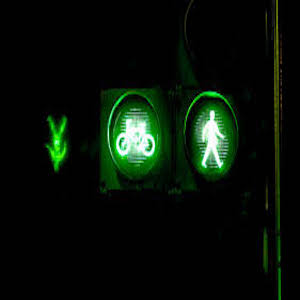green: (37, 105, 77, 171), (194, 108, 230, 181), (118, 112, 153, 163)
